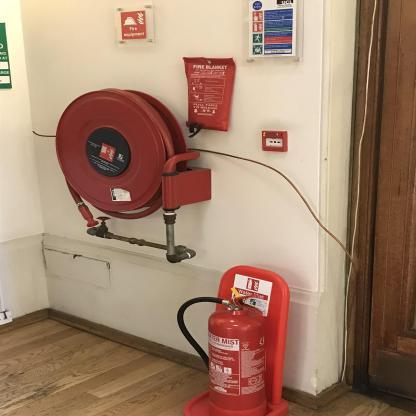Fire Extinguisher: (166, 278, 281, 413)
hose: (56, 87, 188, 218)
